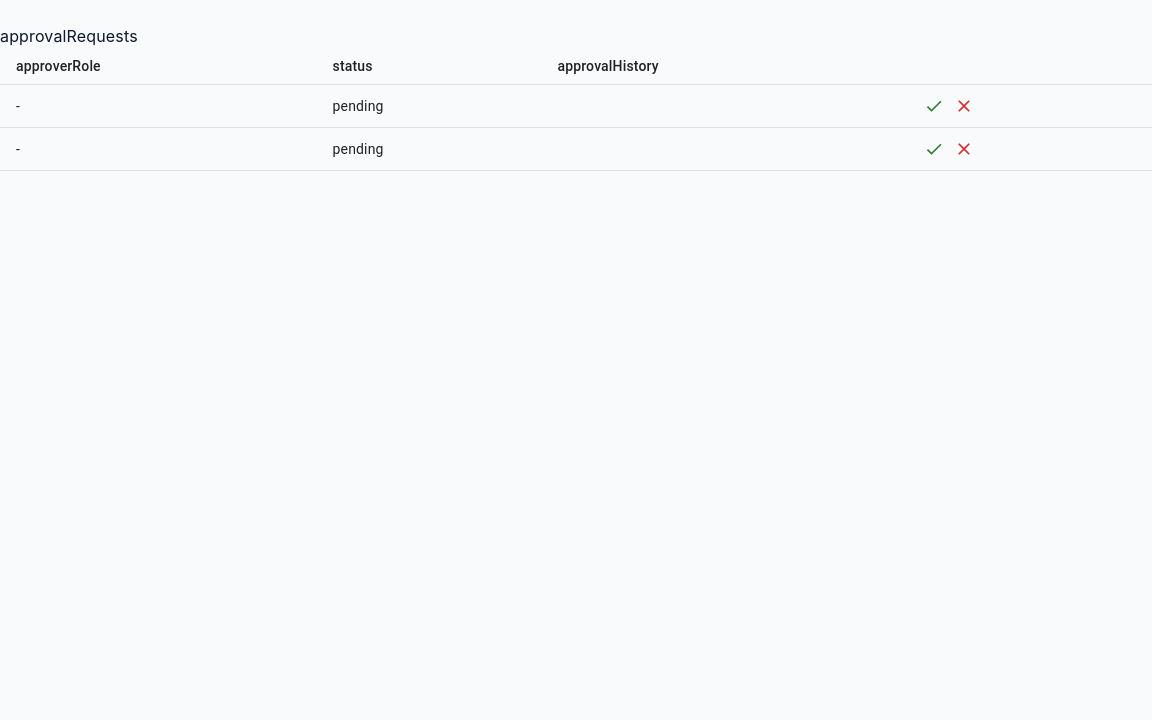
Test case: ApprovalSection (cmd_844 round-based rendering) › in-flight protection (Issue #500) › shows an error and re-enables the controls when the request fails
Click the 1st button named "Reject": click(964, 106) [949,91,979,121]
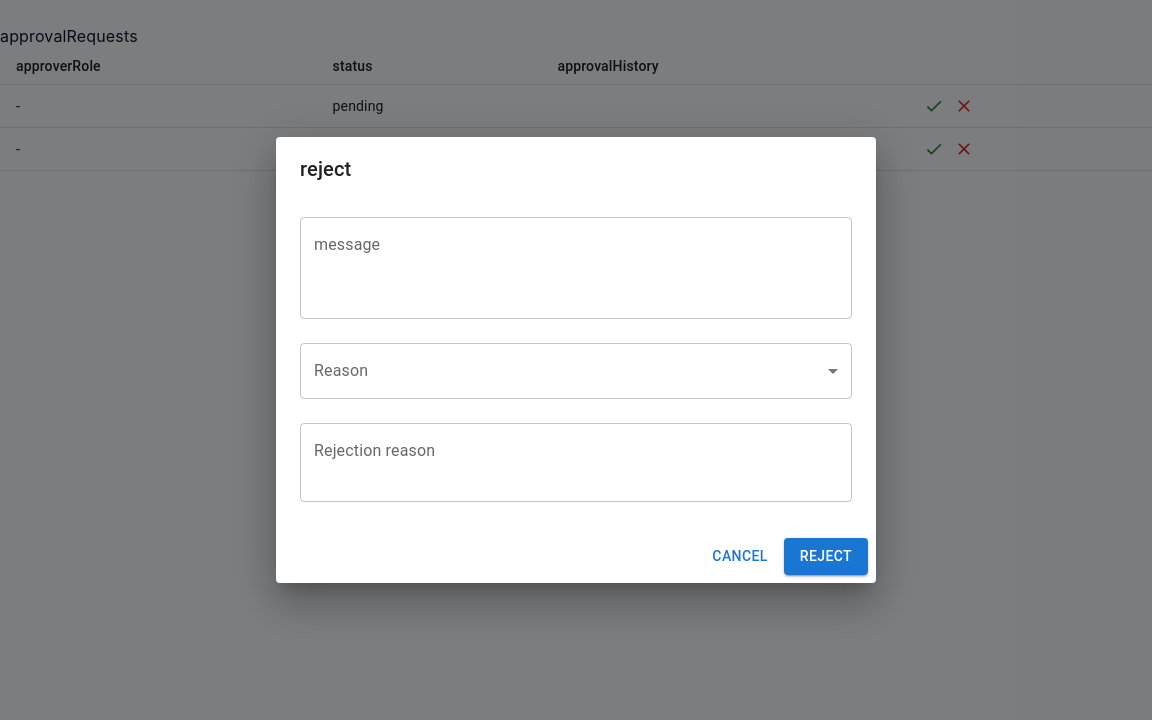
Click the button "reject": click(826, 557) [784,538,868,575]
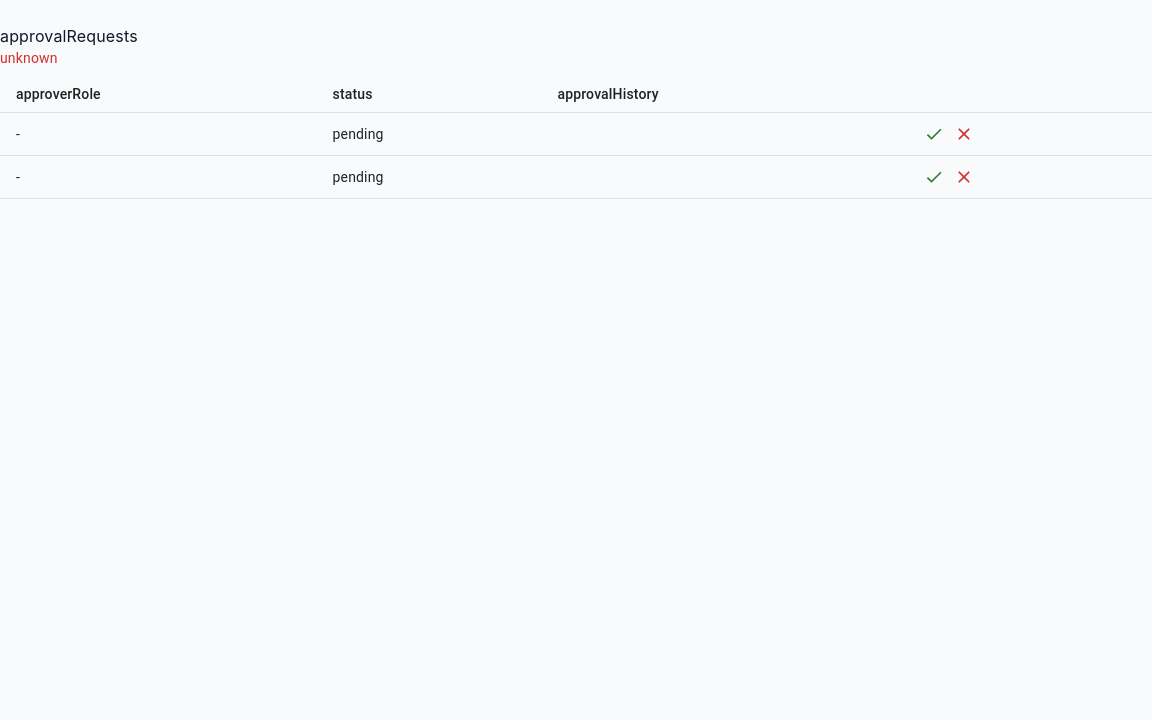
Expected: the 1st button named "Reject" is enabled, [949,119,979,149]
Expected: the message reads "unknown", [0,50,58,66]
